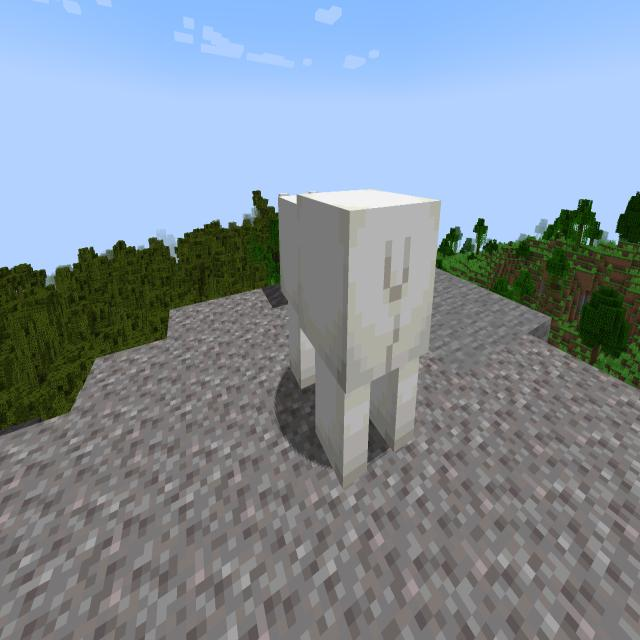Polar Bear: (268, 168, 450, 502)
